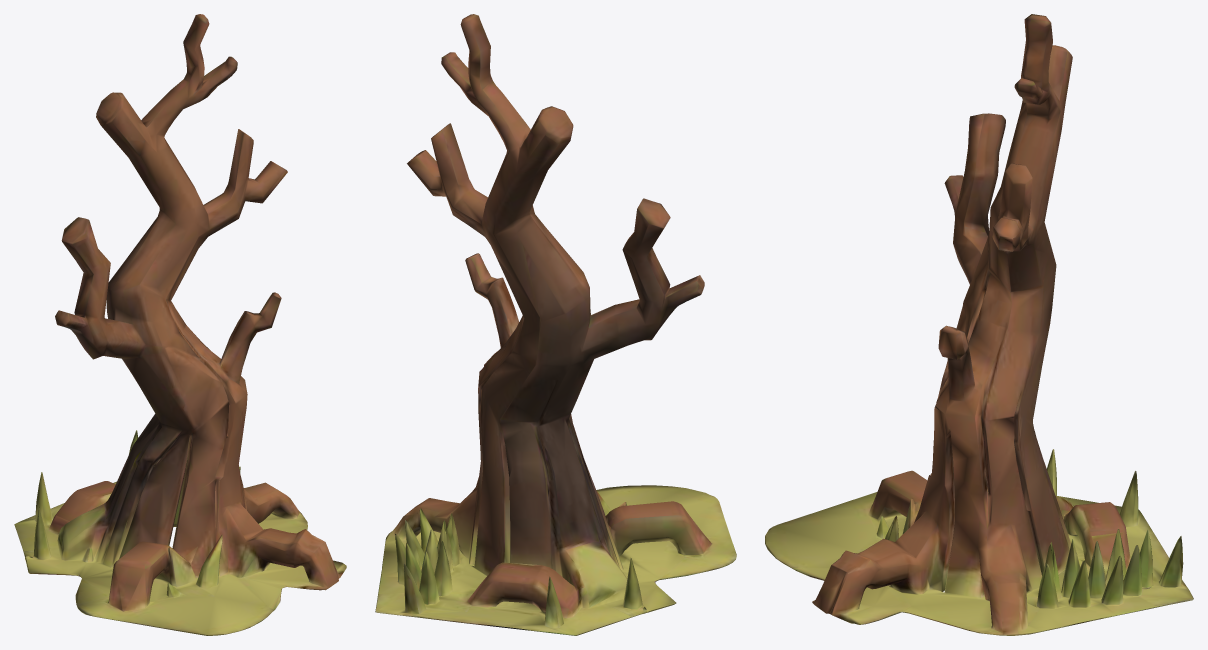
Rendered from cover_stump.glb.
3 views of the same model, side by side, from view 1: azimuth 30°, elevation 25°; view 2: azimuth 150°, elevation 25°; view 3: azimuth 270°, elevation 25° (orthographic). The views are drawn at different scales.
Parts seen in each view (by area): view 1: cover_3; view 2: cover_3; view 3: cover_3.
Boxes of the visible parts, x1,y1,x2,y2 form: cover_3: (14, 14, 346, 635); cover_3: (375, 14, 736, 635); cover_3: (765, 14, 1193, 635).
Size of the model in its own units: 0.2761 by 0.5087 by 0.3407.
Materials: 1 (1 with a texture image).
